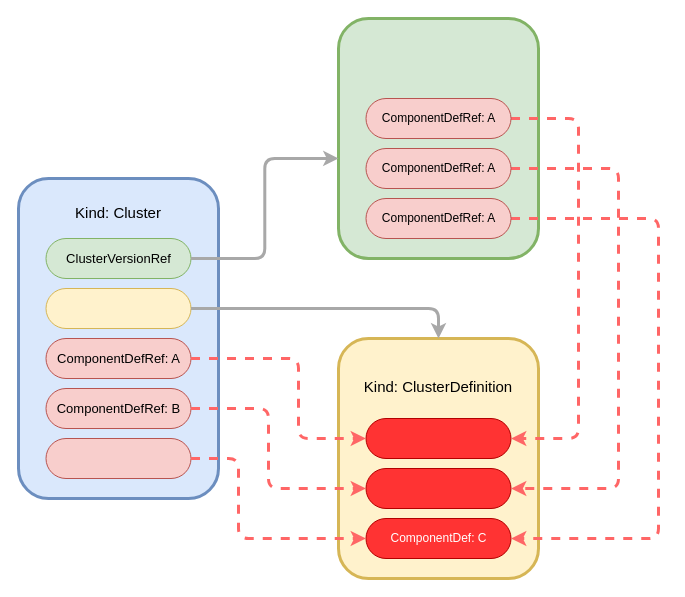
This 685x597 diagram has some shape labels left out. The box of each missing label's shape, as (x1, y1, x2, y2) in pixels:
ClusterDefinitionRef: (45, 288, 191, 328)
ComponentDef: A: (365, 418, 511, 458)
ComponentDef: B: (365, 468, 511, 508)
ComponentDefRef: C: (45, 438, 191, 478)
Kind: ClusterVersion: (336, 16, 540, 260)
